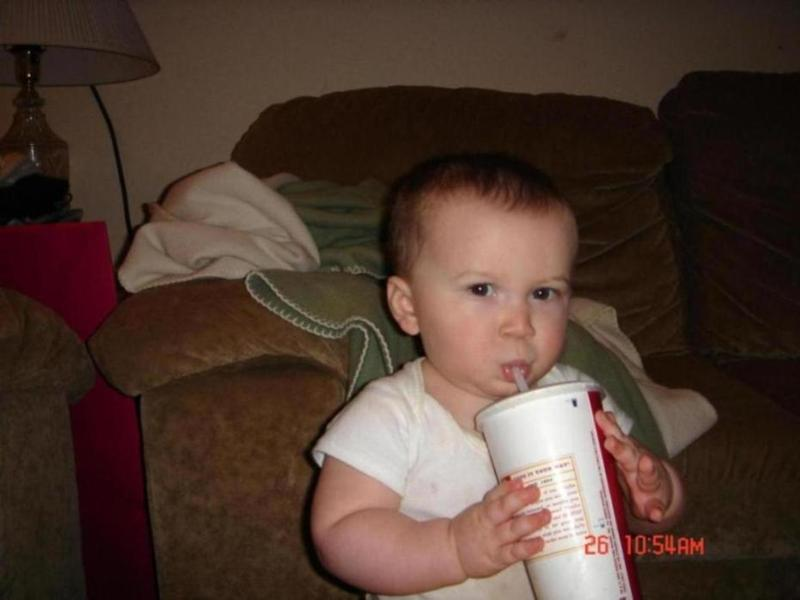person: (309, 145, 692, 599)
